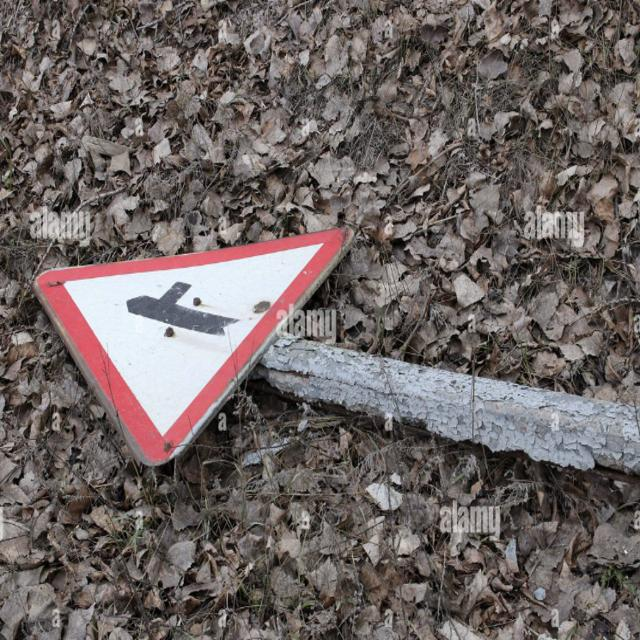Inclined Pole: (42, 205, 640, 505)
